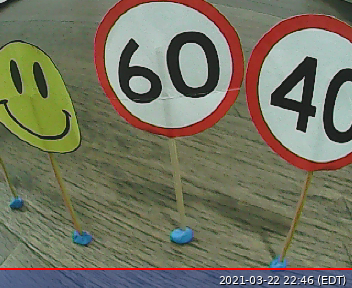Person: (1, 39, 81, 154)
Speed Limit 60: (92, 1, 244, 137)
